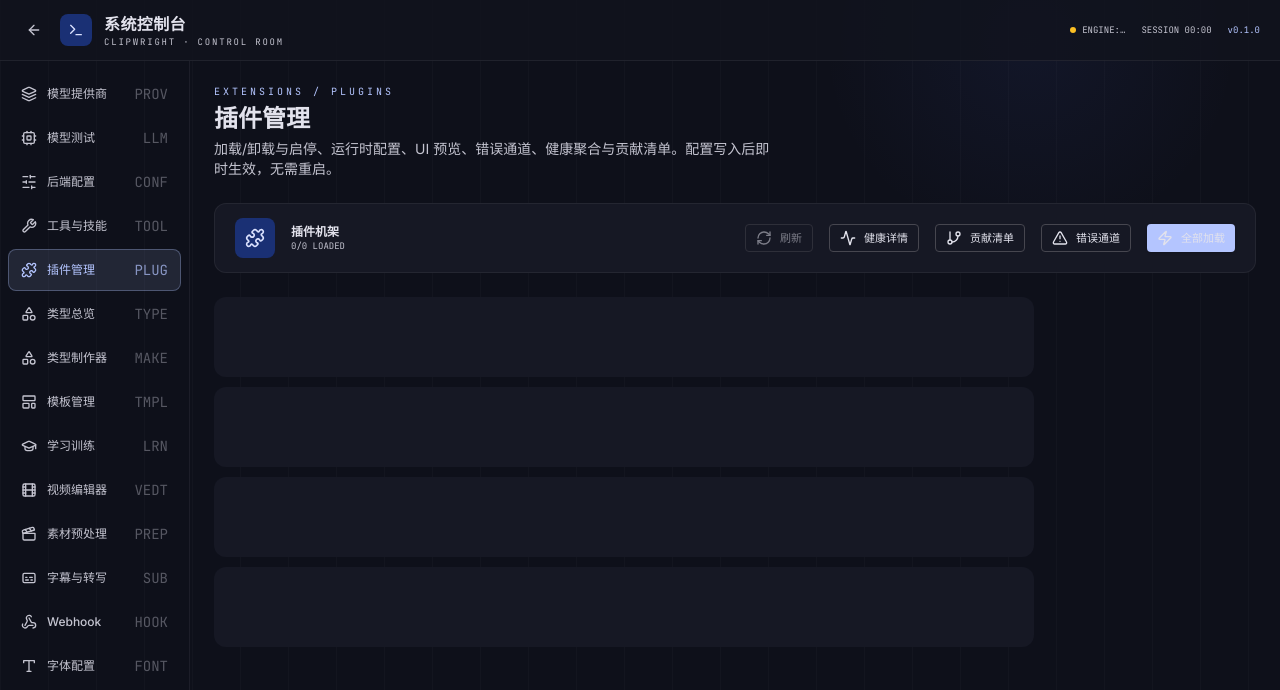
Scenario: PluginsPage M8 启停持久化 › 错误通道按钮加载并展示插件错误（M7）
Click the button "错误通道": (1086, 238) [1041,224,1131,252]
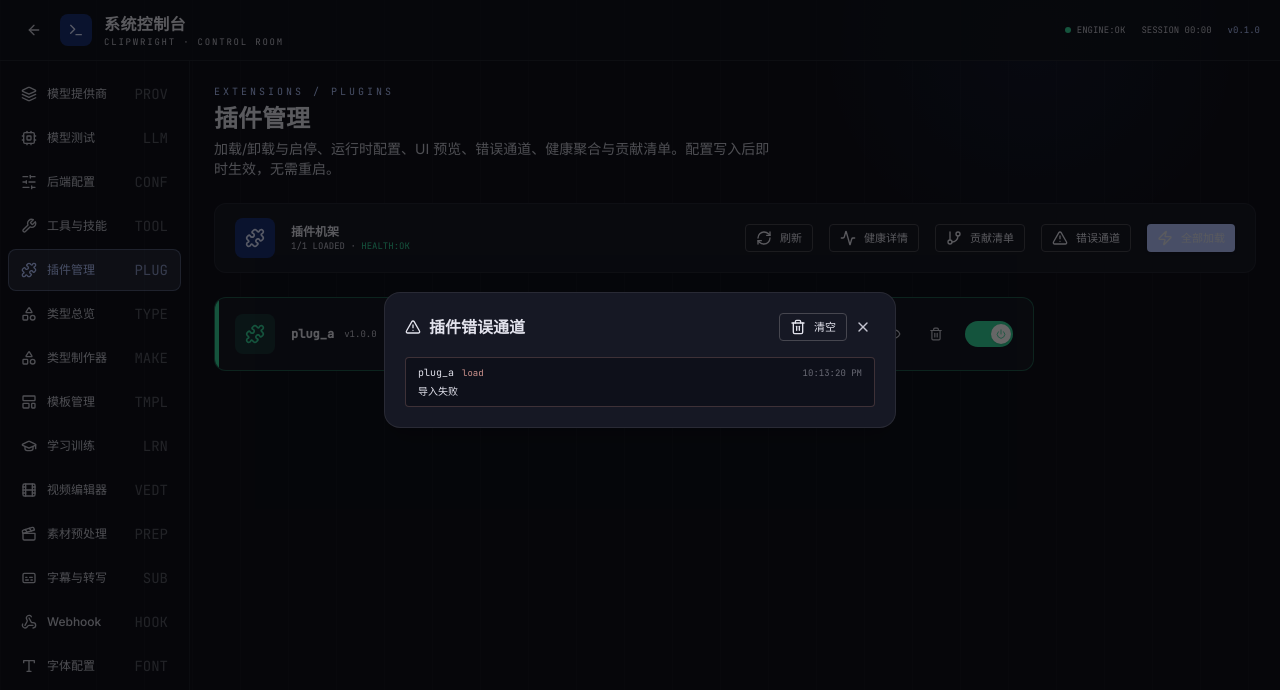
Result: the text "导入失败" is shown at [418,385,458,397]
